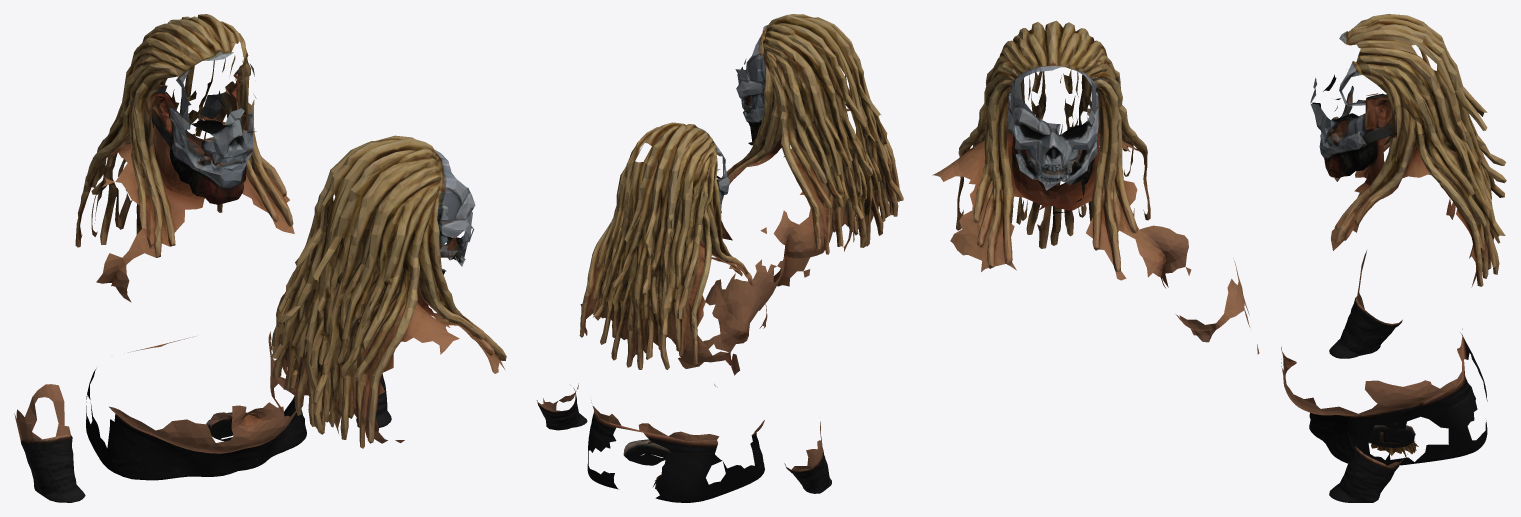
Rendered from BANNON_v3_split.glb.
3 renders of one model, left to right at view 1: azimuth 30°, elevation 25°; view 2: azimuth 150°, elevation 25°; view 3: azimuth 270°, elevation 25°, orthographic. The views are drawn at different scales.
Parts seen in each view (by area): view 1: tripo_mesh_f8bae5d8-72c1-44f4-9b6f-774b74750e5b; view 2: tripo_mesh_f8bae5d8-72c1-44f4-9b6f-774b74750e5b; view 3: tripo_mesh_f8bae5d8-72c1-44f4-9b6f-774b74750e5b.
Boxes of the visible parts, left/top/right/bottom form: tripo_mesh_f8bae5d8-72c1-44f4-9b6f-774b74750e5b: left=14, top=14, right=506, bottom=502; tripo_mesh_f8bae5d8-72c1-44f4-9b6f-774b74750e5b: left=536, top=14, right=903, bottom=502; tripo_mesh_f8bae5d8-72c1-44f4-9b6f-774b74750e5b: left=932, top=14, right=1506, bottom=502.
Bounding box in the file's own units: 0.8143 × 0.9953 × 1.2.
1 material, 1 textured.
